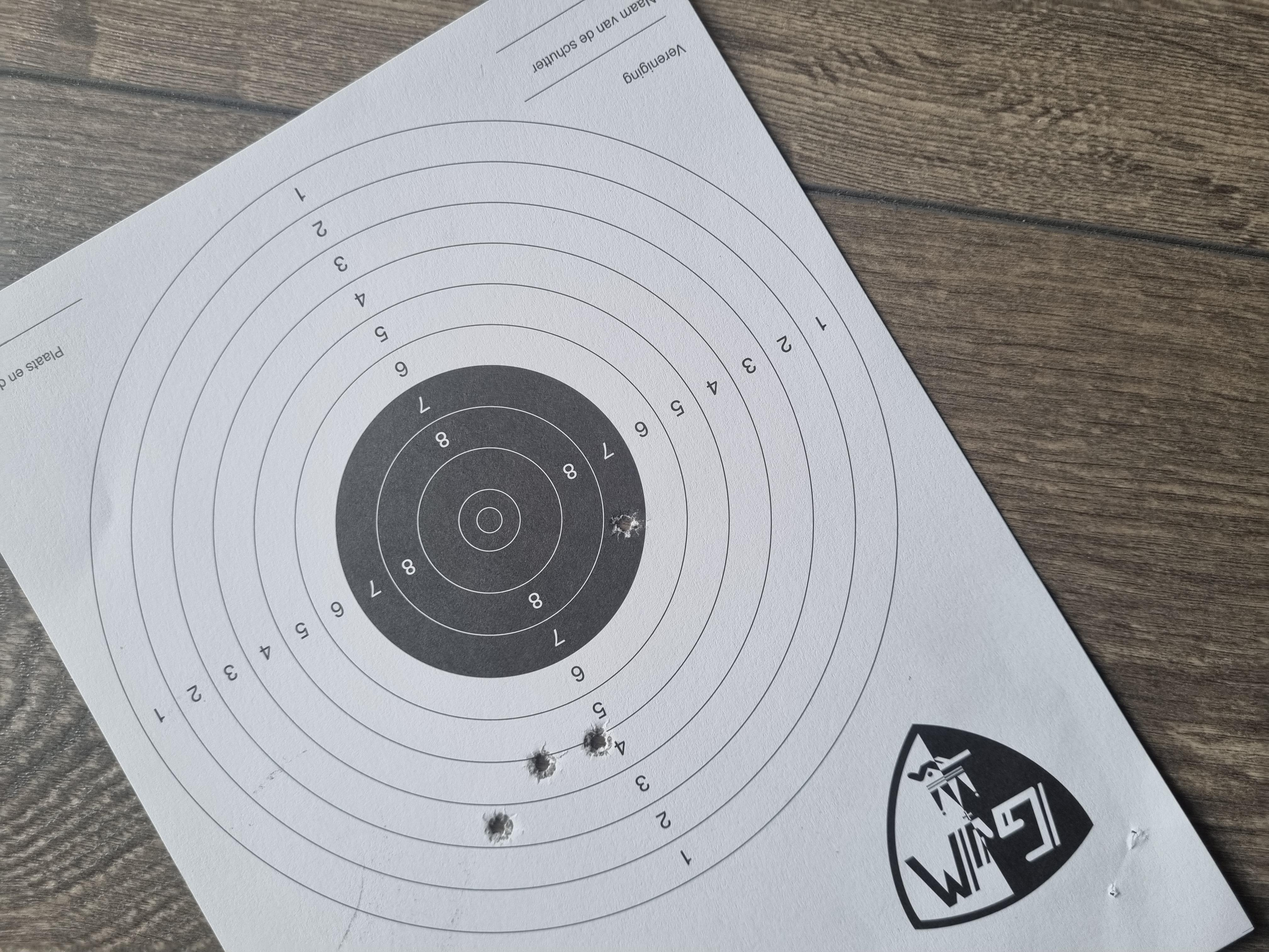hole: (230, 394, 279, 417), (259, 437, 303, 460), (145, 363, 187, 385), (551, 458, 586, 481)
